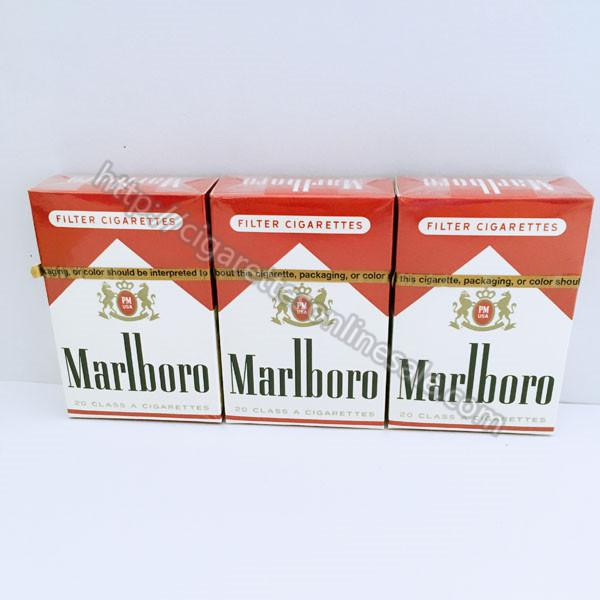marlboro_red: (215, 201, 392, 424), (394, 201, 561, 432), (61, 196, 222, 414)
